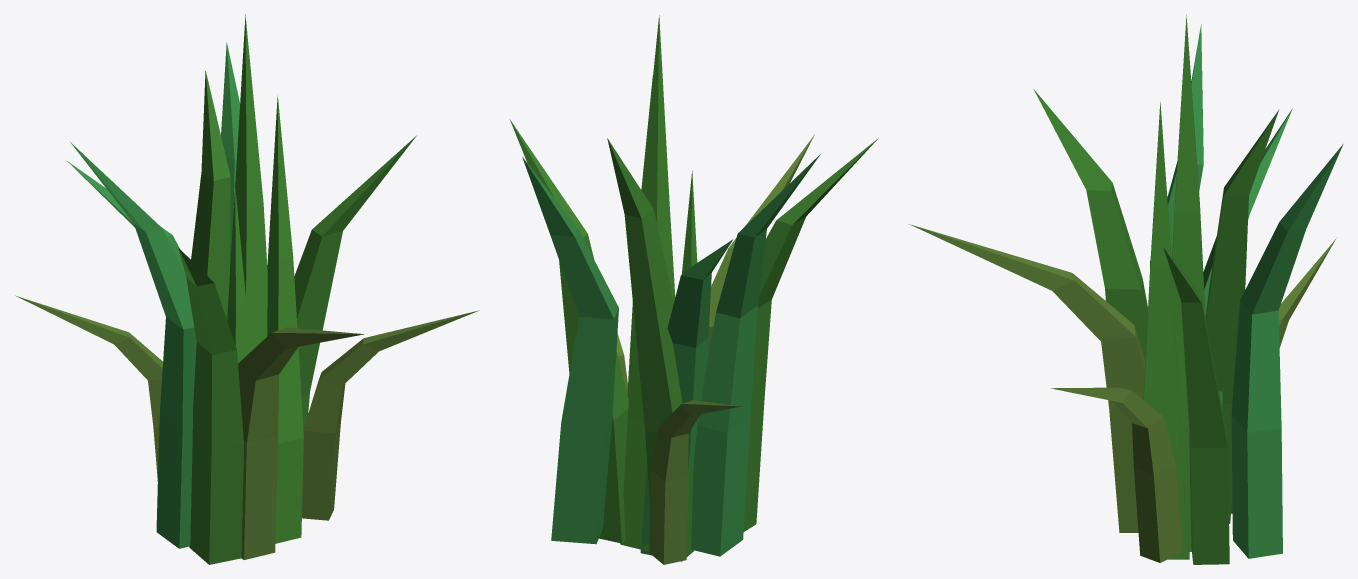
File: LumpOfGrass1.fbx
The picture shows the model from 3 angles, left to right: view 1: azimuth 30°, elevation 25°; view 2: azimuth 150°, elevation 25°; view 3: azimuth 270°, elevation 25°; orthographic projection.
Parts seen in each view (by area): view 1: LumpOfGrass1; view 2: LumpOfGrass1; view 3: LumpOfGrass1.
Boxes of the visible parts, x1,y1,x2,y2 form: LumpOfGrass1: (15, 14, 479, 564); LumpOfGrass1: (509, 15, 878, 564); LumpOfGrass1: (909, 14, 1343, 564).
Bounding box in the file's own units: 131 × 194 × 145.
